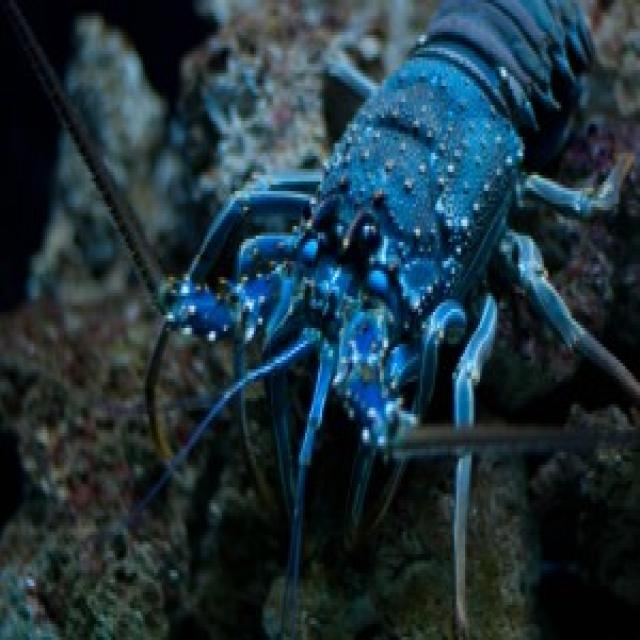lobsters: (70, 0, 639, 595)
